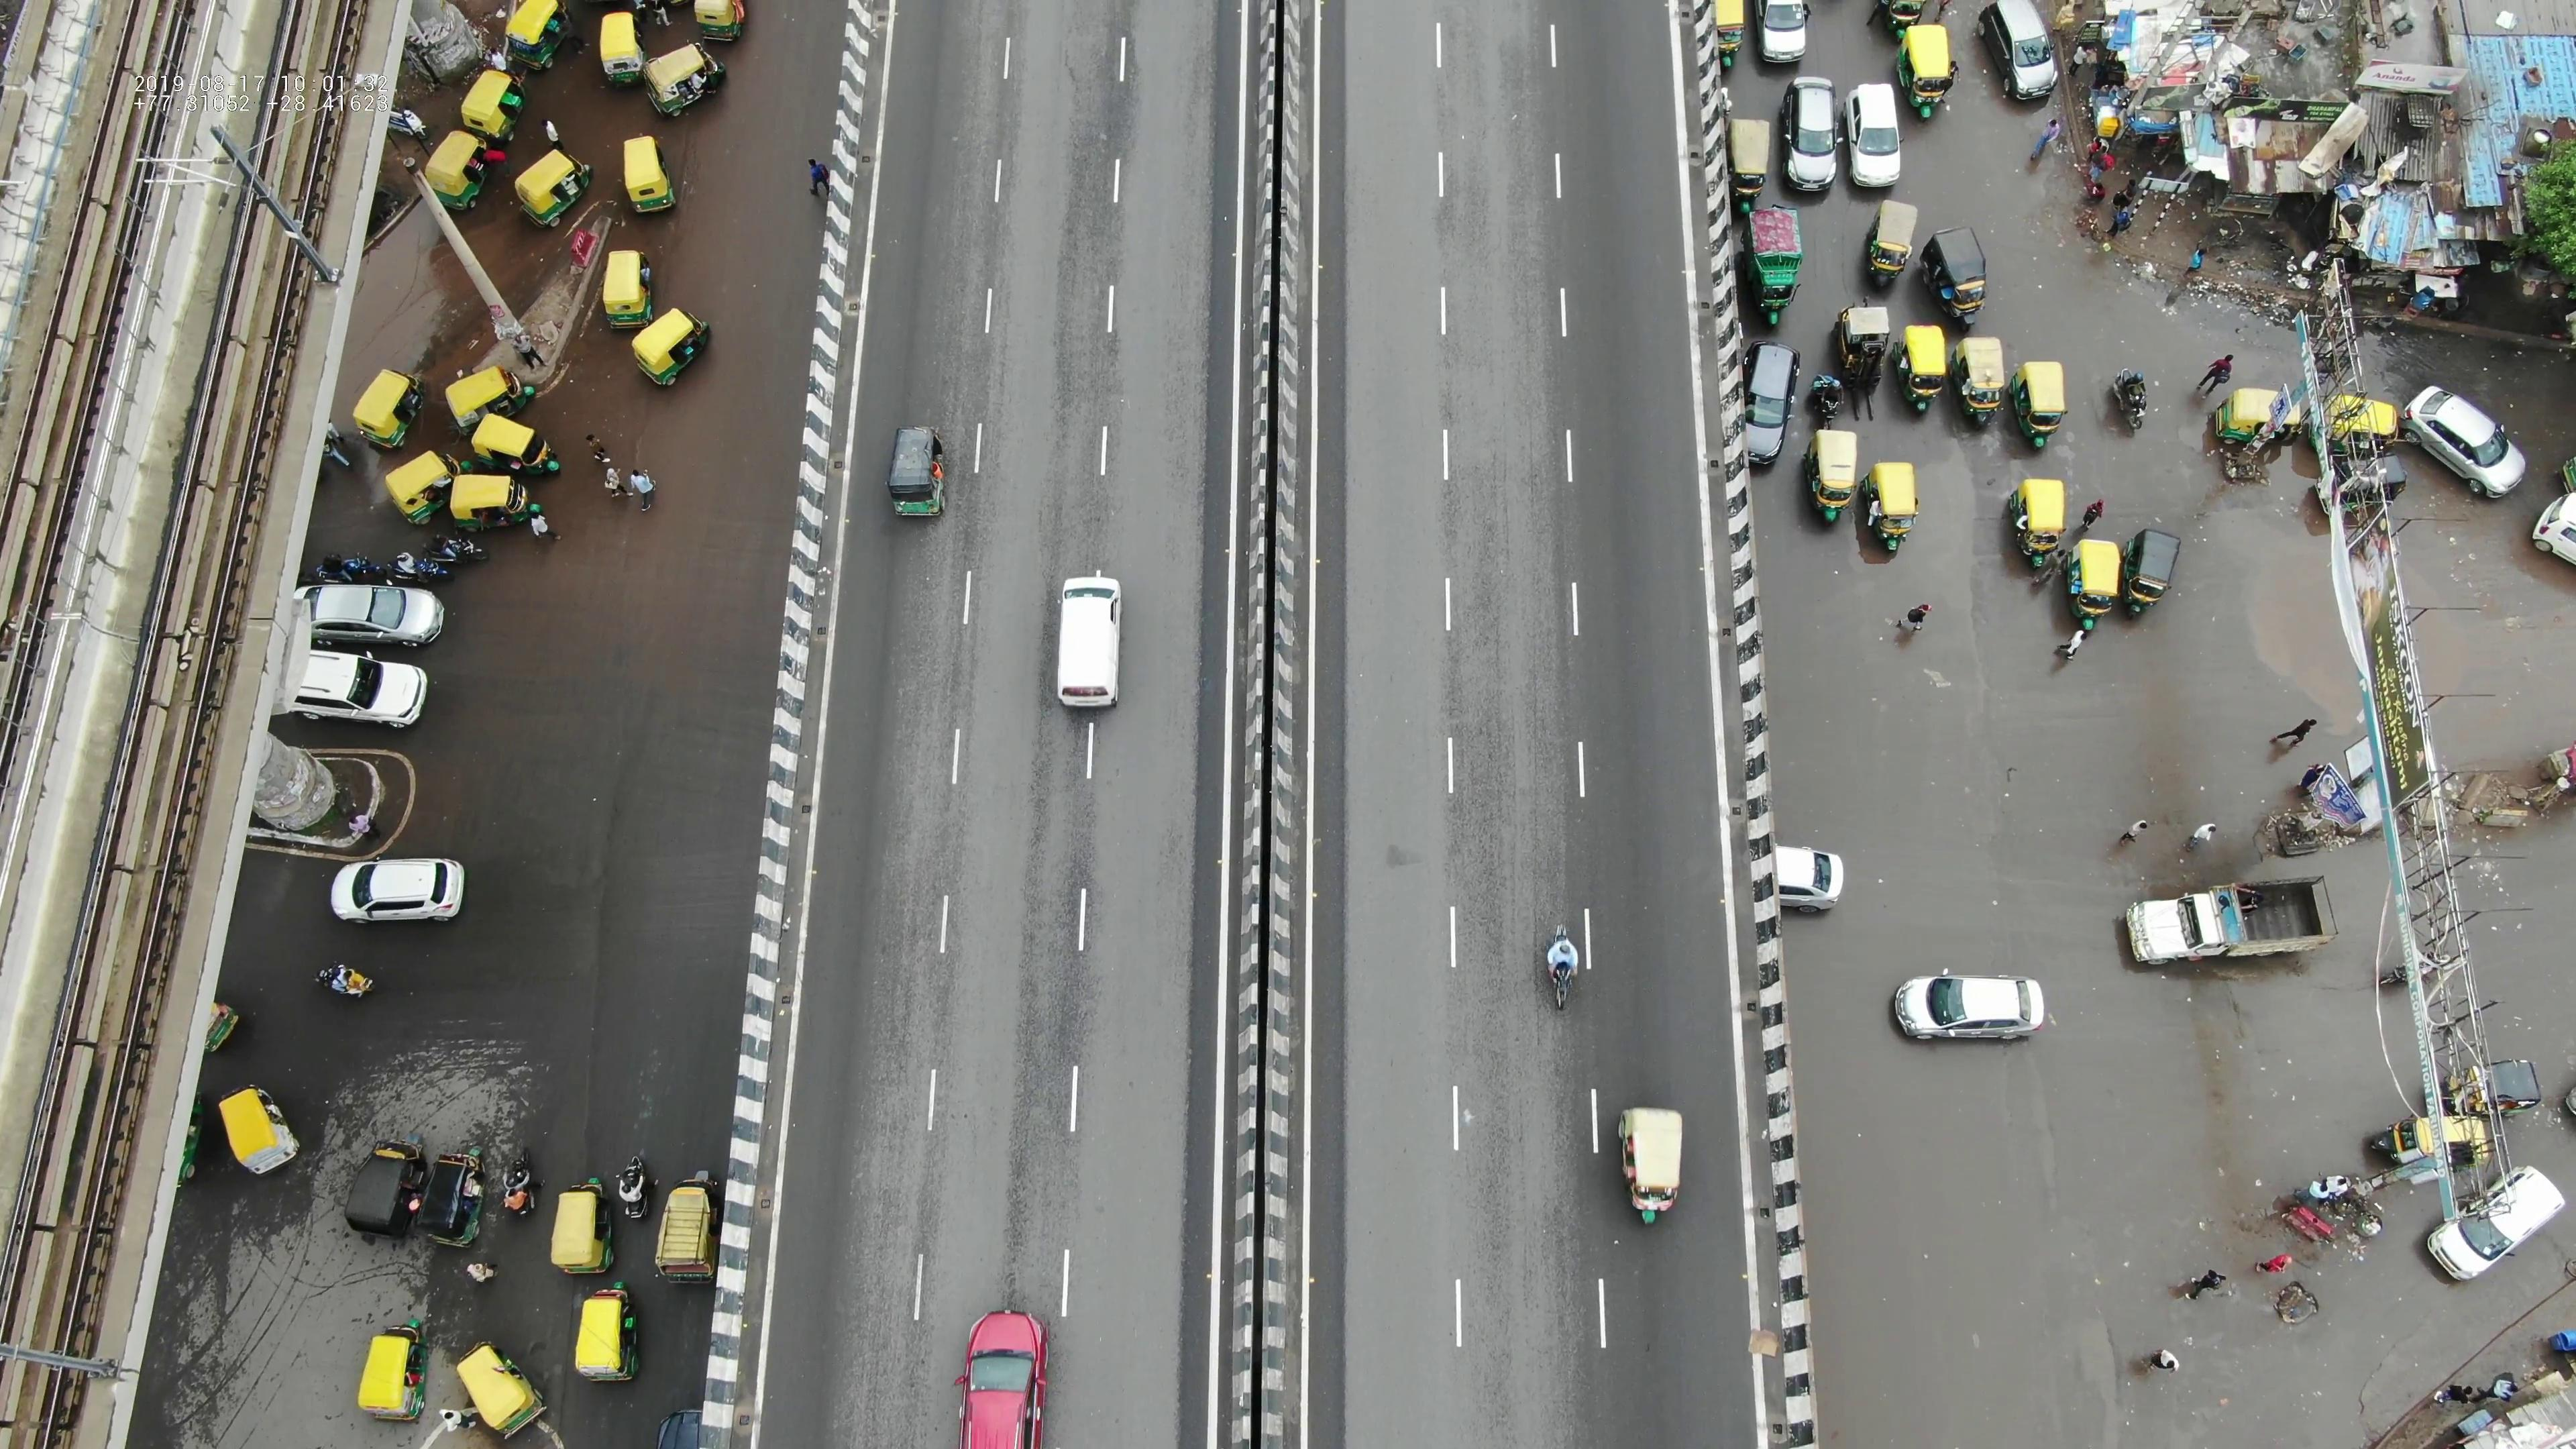Muddy_road: (586, 525, 763, 722), (607, 410, 750, 506), (669, 232, 789, 311)
Waterlogging: (2229, 547, 2339, 717)
